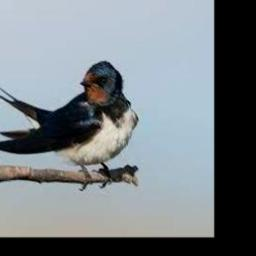Swallow: (0, 61, 137, 186)
